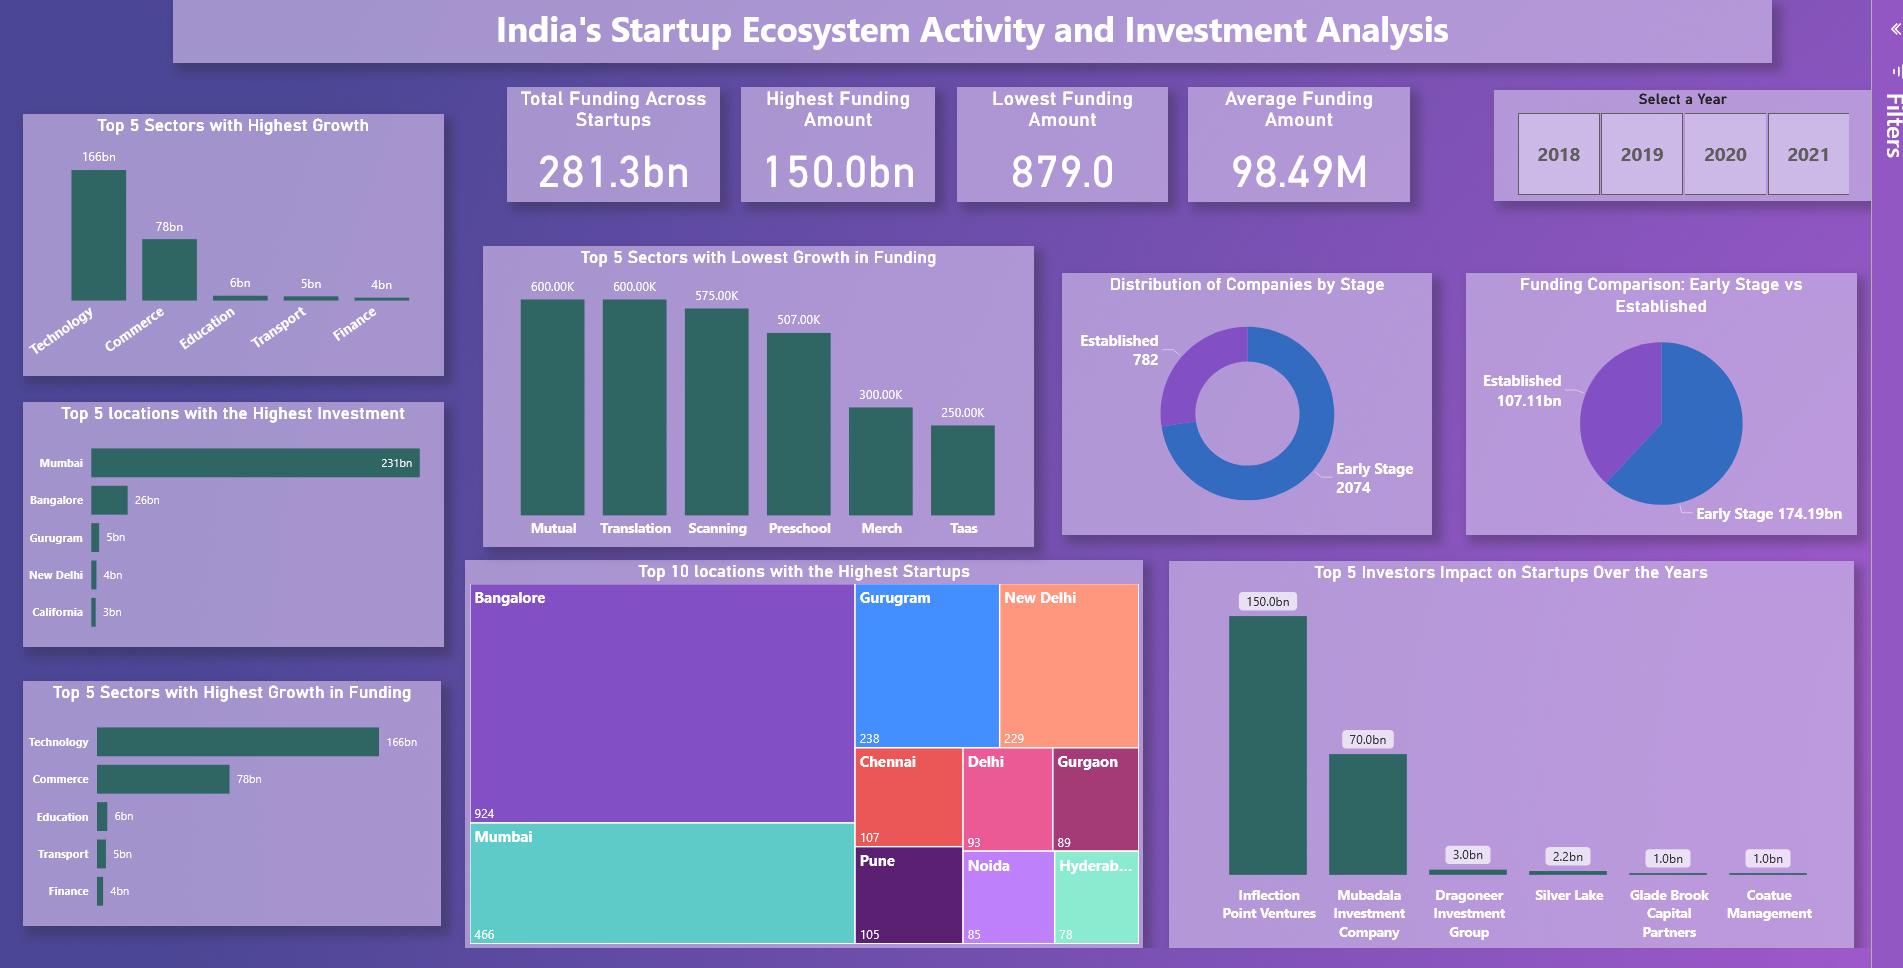

What the dashboard file says about the page in this screenshot:
{"tool":"powerbi","page":{"name":"Dashboard","canvas":[2021,1024],"ordinal":0},"visuals":[{"type":"clusteredBarChart","title":"Top 5 Sectors with Highest Growth","fields":{"Category":["final.sector"],"Y":["Sum(final.amount($))"]},"box":[25,162.5,455,242.5],"z":0},{"type":"slicer","title":"Select a Year","fields":{"Values":["final.year.Variation.Date Hierarchy.Year"]},"box":[1598,94,406,118],"z":1000},{"type":"clusteredColumnChart","title":"Top 5 locations with the Highest Investment","fields":{"Category":["final.headquarter"],"Y":["Sum(final.amount($))"]},"box":[25,435,455,265],"z":2000},{"type":"donutChart","title":"Distribution of Companies by Stage","fields":{"Y":["CountNonNull(final.headquarter)"],"Category":["final.stage_of_startup"]},"box":[1034,308,402,282],"z":3000},{"type":"treemap","title":"Top 10 locations with the Highest Startups","fields":{"Group":["final.headquarter"],"Values":["CountNonNull(final.headquarter)"]},"box":[1288,606,734,418],"z":4000},{"type":"pieChart","title":"Funding Comparison: Early Stage vs Established","fields":{"Category":["final.stage_of_startup"],"Y":["Sum(final.amount($))"]},"box":[1456,308,548,282],"z":5000},{"type":"clusteredColumnChart","title":"Top 5 Sectors with Highest Growth in Funding","fields":{"Y":["Sum(final.amount($))"],"Category":["final.sector"]},"box":[25,735,452.5,265],"z":6000},{"type":"clusteredColumnChart","title":"Top 5 Sectors with Lowest Growth in Funding","fields":{"Y":["Sum(final.amount($))"],"Category":["final.sector"]},"box":[522.5,277.5,487.5,312.5],"z":7000},{"type":"clusteredBarChart","title":"Top 5 Investors Impact on Startups Over the Years","fields":{"Category":["final.investor"],"Y":["Sum(final.amount($))"]},"box":[522,606,740,396],"z":8000},{"type":"textbox","box":[186,0,1728,68],"z":9000},{"type":"card","title":"Total Funding Across Startups","fields":{"Values":["Sum(final.amount($))"]},"box":[548,94,230,124],"z":9001},{"type":"card","title":"Average Funding Amount","fields":{"Values":["Avg(final.amount($))"]},"box":[1284,94,240,124],"z":9003},{"type":"card","title":"Highest Funding Amount","fields":{"Values":["Max(final.amount($))"]},"box":[800,94,210,124],"z":9004},{"type":"card","title":"Lowest Funding Amount","fields":{"Values":["Min(final.amount($))"]},"box":[1034,94,228,124],"z":9005}]}

Visuals, with their boxes in screenshot pixels (x1, y1, x2, y2), scaled from the page's 2021x1024 canvas onto the 1903x968 screenshot:
"Top 5 Sectors with Highest Growth" clusteredBarChart: {"left": 24, "top": 154, "right": 452, "bottom": 383}
"Select a Year" slicer: {"left": 1505, "top": 89, "right": 1887, "bottom": 200}
"Top 5 locations with the Highest Investment" clusteredColumnChart: {"left": 24, "top": 411, "right": 452, "bottom": 662}
"Distribution of Companies by Stage" donutChart: {"left": 974, "top": 291, "right": 1352, "bottom": 558}
"Top 10 locations with the Highest Startups" treemap: {"left": 1213, "top": 573, "right": 1902, "bottom": 967}
"Funding Comparison: Early Stage vs Established" pieChart: {"left": 1371, "top": 291, "right": 1887, "bottom": 558}
"Top 5 Sectors with Highest Growth in Funding" clusteredColumnChart: {"left": 24, "top": 695, "right": 450, "bottom": 945}
"Top 5 Sectors with Lowest Growth in Funding" clusteredColumnChart: {"left": 492, "top": 262, "right": 951, "bottom": 558}
"Top 5 Investors Impact on Startups Over the Years" clusteredBarChart: {"left": 492, "top": 573, "right": 1188, "bottom": 947}
textbox: {"left": 175, "top": 0, "right": 1802, "bottom": 64}
"Total Funding Across Startups" card: {"left": 516, "top": 89, "right": 733, "bottom": 206}
"Average Funding Amount" card: {"left": 1209, "top": 89, "right": 1435, "bottom": 206}
"Highest Funding Amount" card: {"left": 753, "top": 89, "right": 951, "bottom": 206}
"Lowest Funding Amount" card: {"left": 974, "top": 89, "right": 1188, "bottom": 206}
